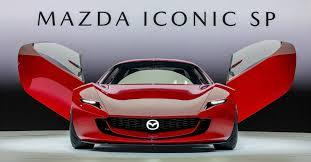mazda: (143, 115, 164, 136)
